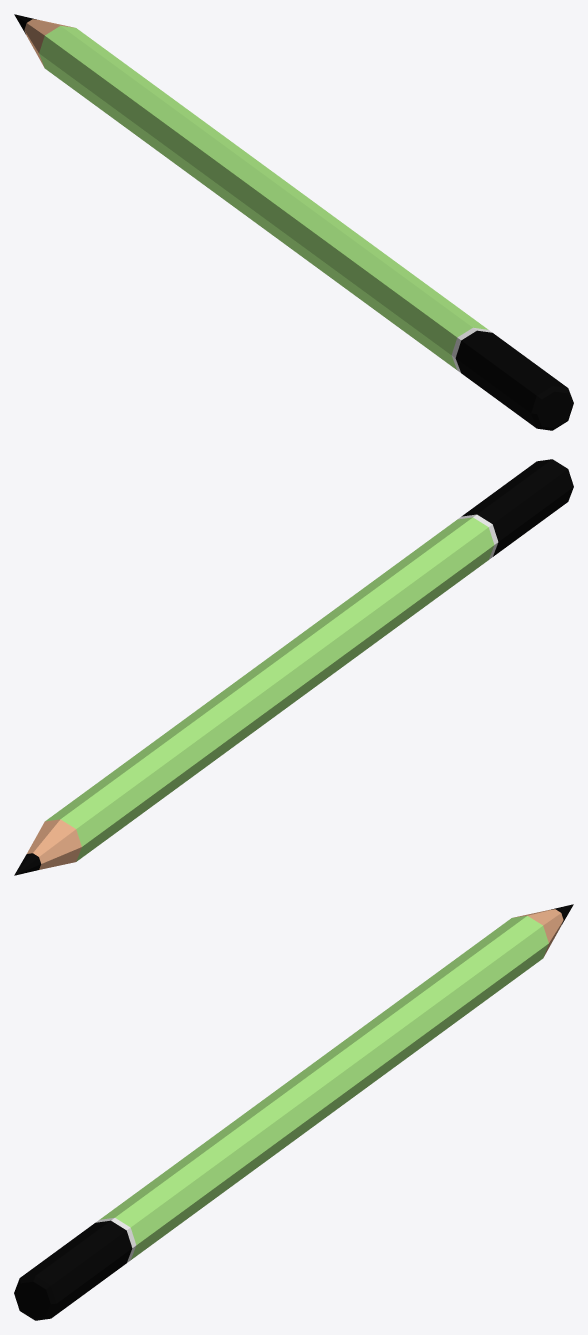
File: Crayon.fbx
The picture shows the model from 3 angles, top to bottom: view 1: azimuth 30°, elevation 25°; view 2: azimuth 150°, elevation 25°; view 3: azimuth 330°, elevation 25°; orthographic projection.
Parts seen in each view (by area): view 1: Crayon; view 2: Crayon; view 3: Crayon.
Part boxes in pixels (x1,y1,x2,y2): Crayon: [14, 14, 573, 430]; Crayon: [14, 459, 573, 875]; Crayon: [14, 904, 573, 1320].
Size of the model in its own units: 4.96 by 4.96 by 108.
